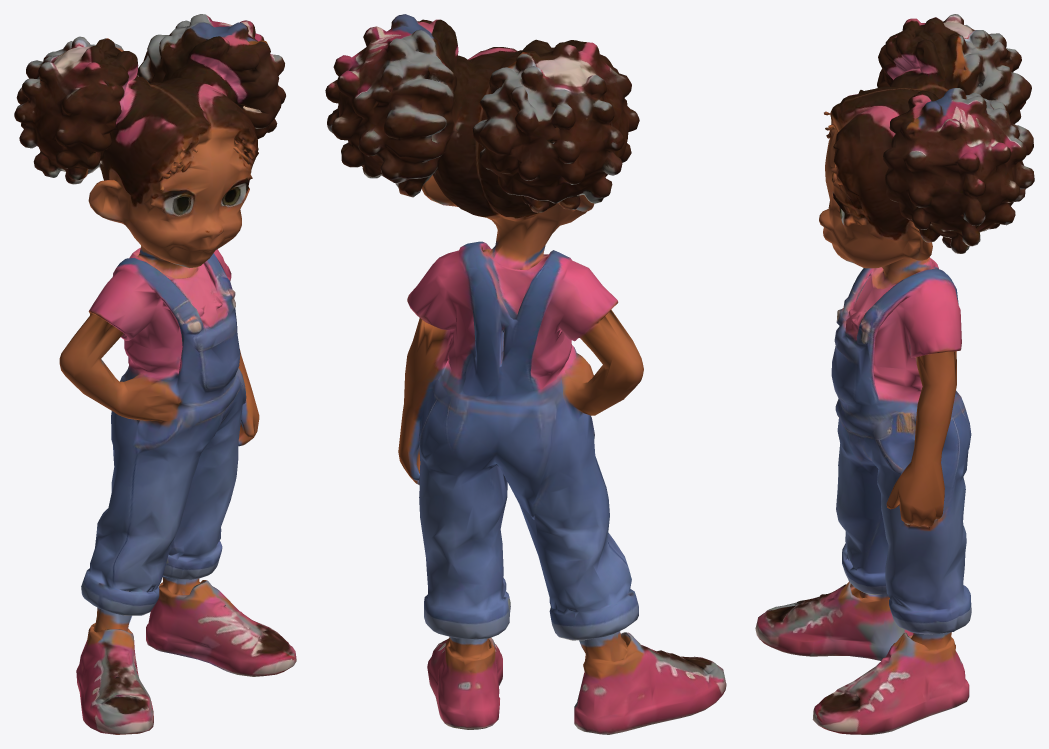
File: nina.glb
3 renders of one model, left to right at view 1: azimuth 30°, elevation 25°; view 2: azimuth 150°, elevation 25°; view 3: azimuth 270°, elevation 25°, orthographic. The views are drawn at different scales.
Parts seen in each view (by area): view 1: tripo_node_f38eb1d5-5363-4777-a53c-8eb52d976f55; view 2: tripo_node_f38eb1d5-5363-4777-a53c-8eb52d976f55; view 3: tripo_node_f38eb1d5-5363-4777-a53c-8eb52d976f55.
Boxes of the visible parts, bbox=[...] form: tripo_node_f38eb1d5-5363-4777-a53c-8eb52d976f55: bbox=[14, 14, 296, 734]; tripo_node_f38eb1d5-5363-4777-a53c-8eb52d976f55: bbox=[325, 14, 726, 734]; tripo_node_f38eb1d5-5363-4777-a53c-8eb52d976f55: bbox=[755, 14, 1034, 734].
Size of the model in its own units: 0.4372 by 0.999 by 0.3919.
1 material, 1 textured.
